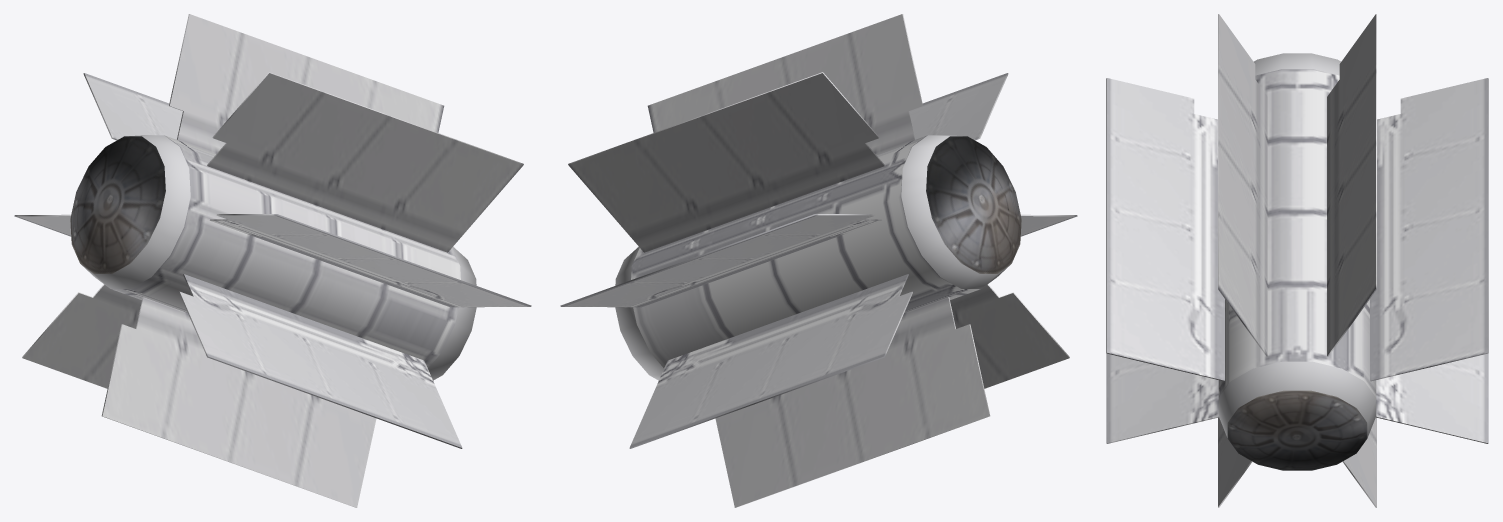
3 renders of one model, left to right at view 1: azimuth 30°, elevation 25°; view 2: azimuth 150°, elevation 25°; view 3: azimuth 270°, elevation 25°, orthographic.
Parts seen in each view (by area): view 1: node; view 2: node; view 3: node.
Part boxes in pixels (bbox=[...]): node: bbox=[14, 14, 531, 507]; node: bbox=[560, 14, 1077, 507]; node: bbox=[1106, 14, 1488, 507].
Bounding box in the file's own units: 0.7492 × 0.5943 × 0.7756.
Materials: 1 (1 with a texture image).
